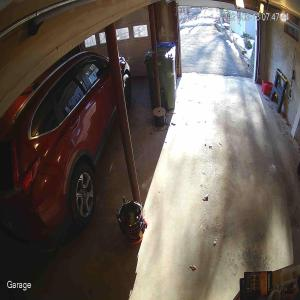garbage bin: (144, 39, 177, 115)
honda crv: (0, 48, 133, 248)
tool bucket: (115, 195, 148, 248)
